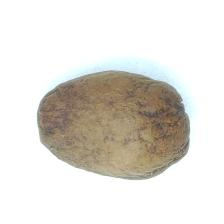NG: (137, 79, 191, 172)
